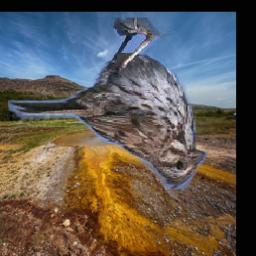Sparrow: (8, 19, 208, 193)
